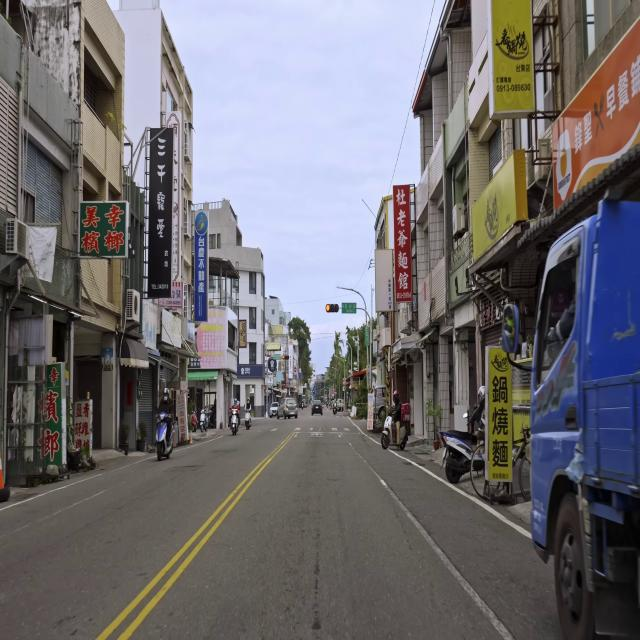red light: (325, 303, 339, 313), (283, 355, 289, 360)
